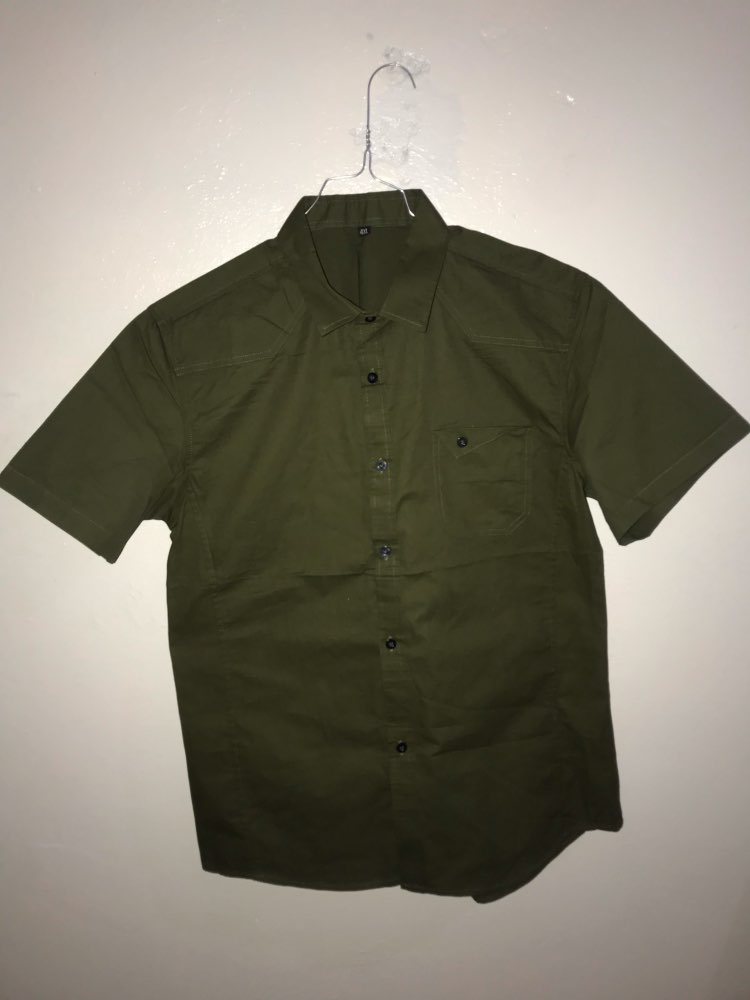shirts: (7, 189, 750, 892)
